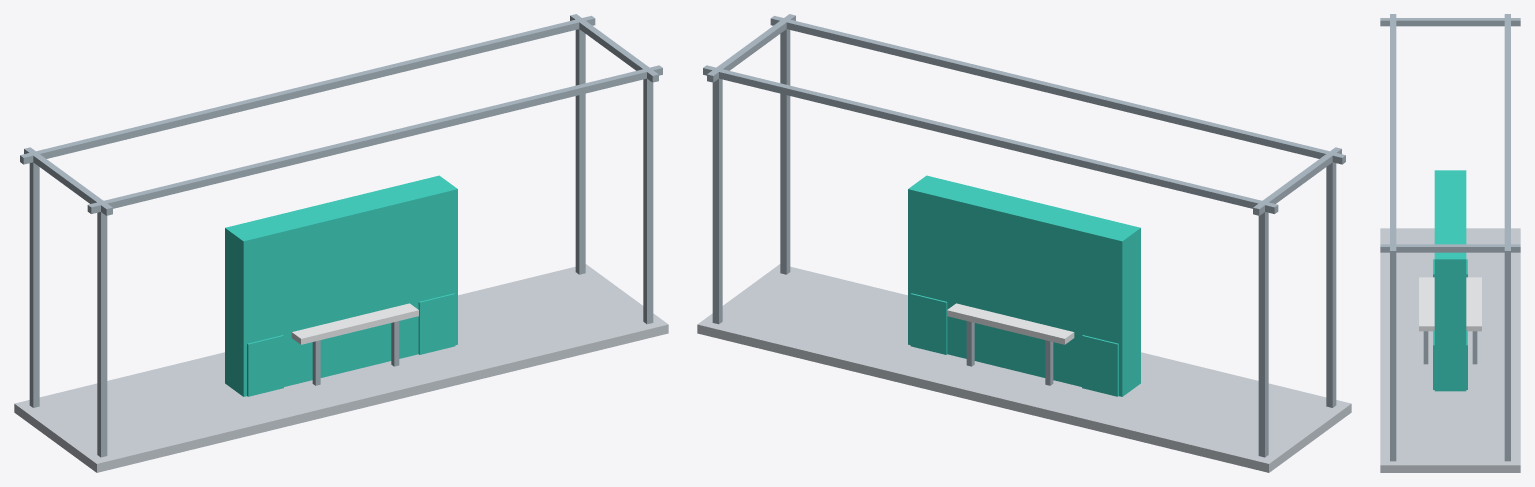
3 views of the same model, side by side, from view 1: azimuth 30°, elevation 25°; view 2: azimuth 150°, elevation 25°; view 3: azimuth 270°, elevation 25° (orthographic). The views are drawn at different scales.
Parts seen in each view (by area): view 1: Exhibition Booth Concept; view 2: Exhibition Booth Concept; view 3: Exhibition Booth Concept.
Boxes of the visible parts, bbox=[...] form: Exhibition Booth Concept: bbox=[14, 14, 668, 472]; Exhibition Booth Concept: bbox=[697, 14, 1351, 472]; Exhibition Booth Concept: bbox=[1380, 14, 1520, 472].
Size of the model in its own units: 8 by 3.49 by 2.
